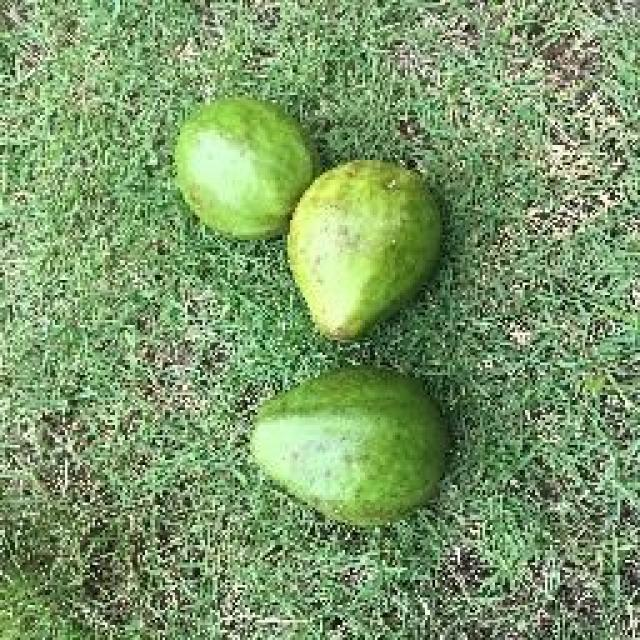Good_Guava: (250, 368, 450, 530), (172, 98, 322, 242)
